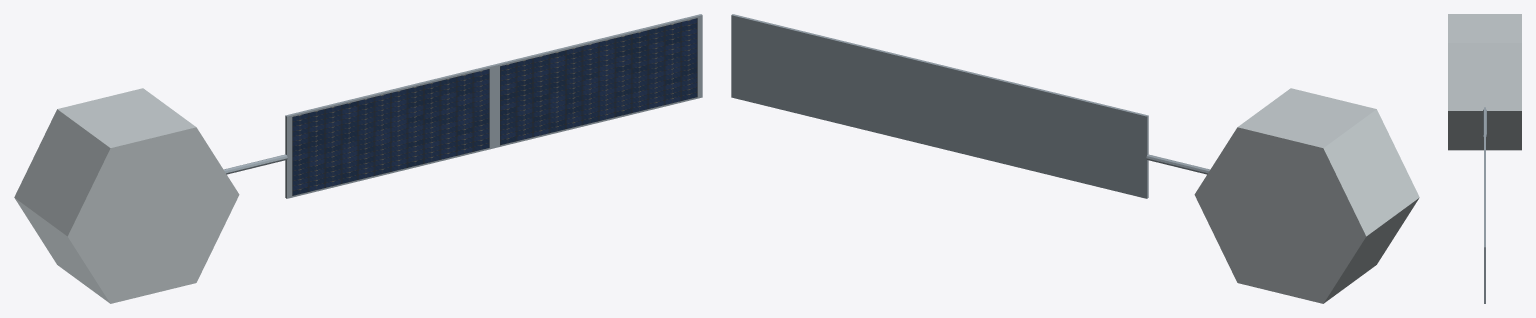
The model's file is ref-atk-a200-26619.glb.
3 renders of one model, left to right at view 1: azimuth 30°, elevation 25°; view 2: azimuth 150°, elevation 25°; view 3: azimuth 270°, elevation 25°, orthographic. The views are drawn at different scales.
Parts seen in each view (by area): view 1: Spacecraft body, Photovoltaic laminates (×2), Array frame (×2); view 2: Array frame (×2), Spacecraft body; view 3: Spacecraft body, Array frame (×2).
Part boxes in pixels (box(x1,y1,x2,y2)): Spacecraft body: box(14, 88, 239, 303); Photovoltaic laminates (×2): box(292, 18, 697, 195); Array frame (×2): box(285, 14, 702, 198); Array frame (×2): box(731, 14, 1148, 198); Spacecraft body: box(1194, 88, 1419, 303); Spacecraft body: box(1448, 14, 1521, 150); Array frame (×2): box(1484, 107, 1485, 303).
Size of the model in its own units: 5 by 1.13 by 0.7.
Materials: 3 (1 with a texture image).
